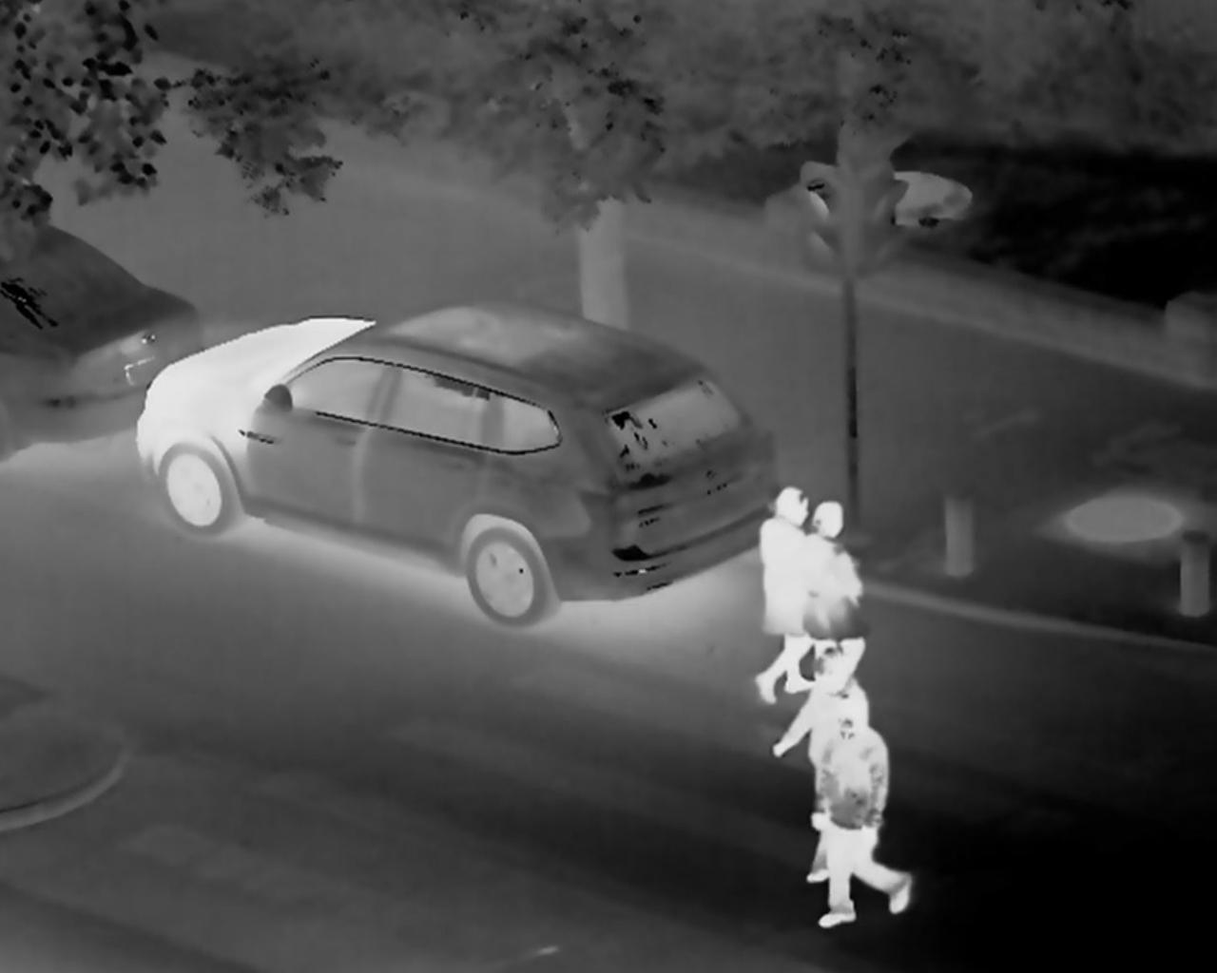person: (809, 719, 878, 919), (800, 494, 868, 673), (738, 489, 798, 675), (798, 666, 840, 747)
